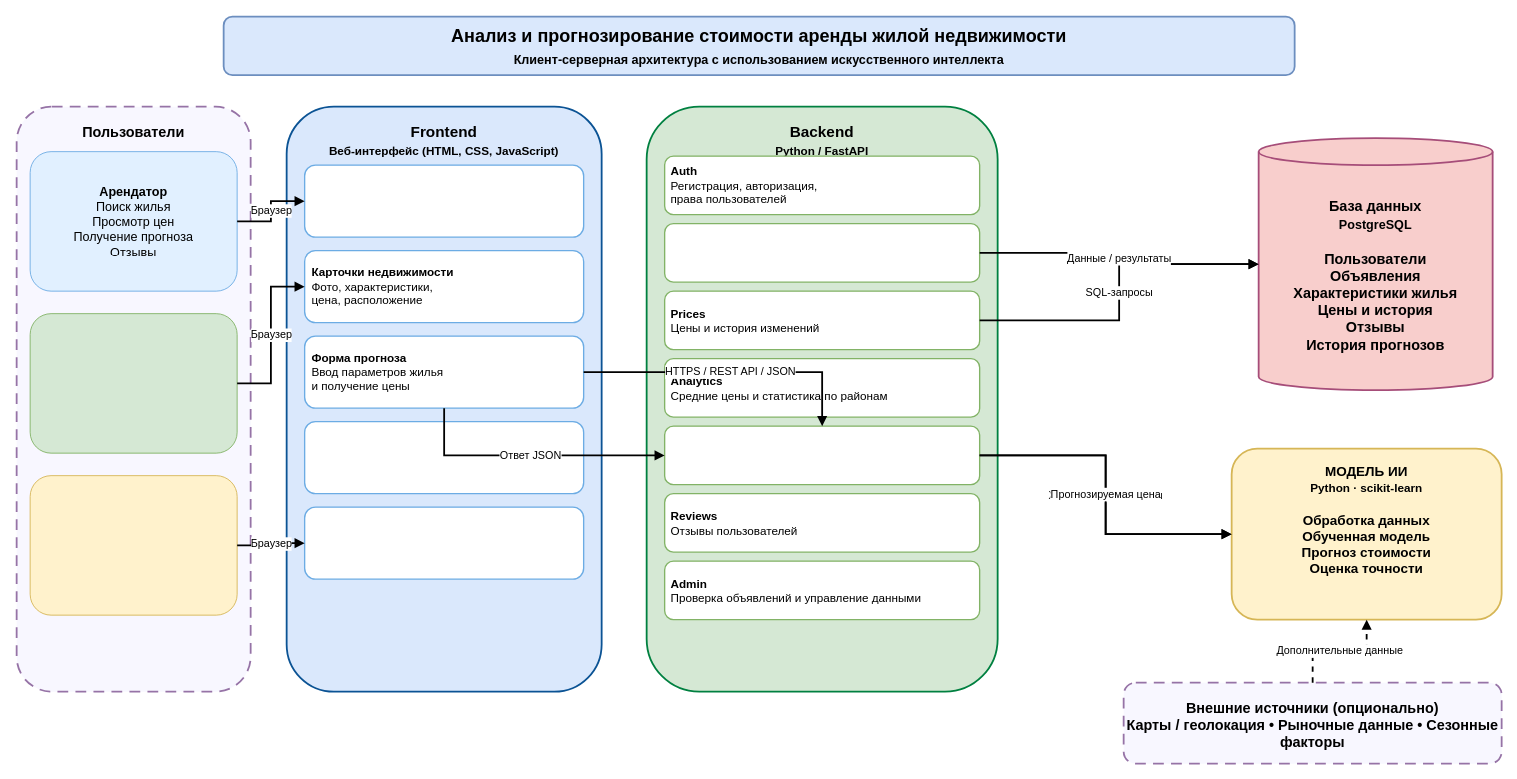
Some shapes in this 1517 by 779 pixel diagram are drawn without their labels. The shapes that lost their labels are listed below. From the top down, each one's centre as x and y in pixels, then its label:
At [444,200]: "Поиск и фильтры Город, район, цена, количество комнат, удобства".
At [822,252]: "Properties Добавление, изменение и просмотр жилья".
At [133,383]: "Арендодатель Размещение объявлений Изменение цены Управление объектами".
At [444,457]: "Аналитика Графики средних цен, сравнение районов".
At [822,455]: "Prediction / ИИ Подготовка данных, обращение к ML-модели".
At [133,545]: "Администратор Проверка объявлений Управление пользователями Контроль данных".
At [444,542]: "Личный кабинет Профиль, объявления, избранное, отзывы".
